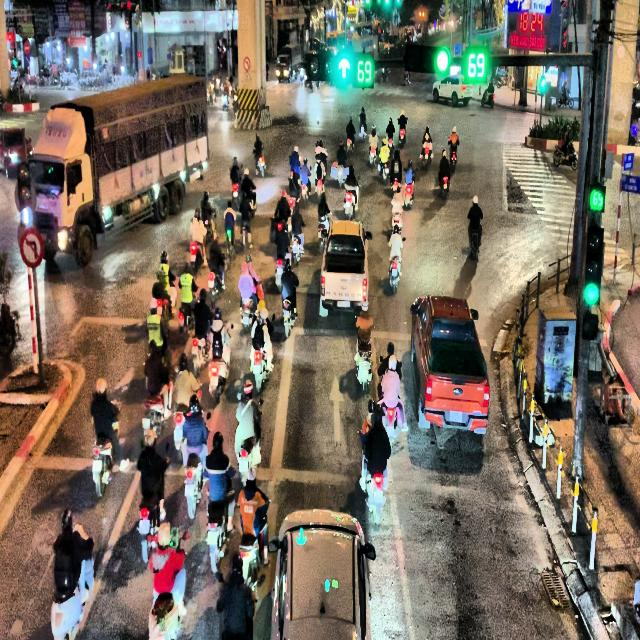lisence_plate: (444, 407, 467, 426), (336, 298, 351, 308)
